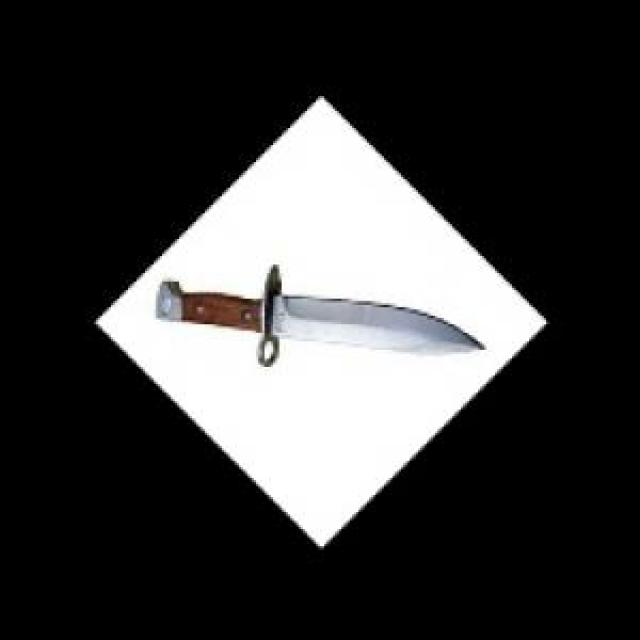knife: (147, 273, 491, 367)
